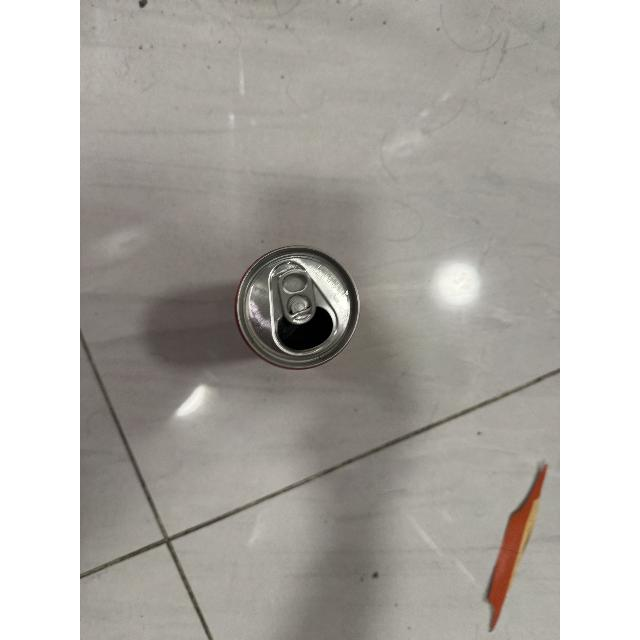coca-cola: (230, 242, 362, 376)
